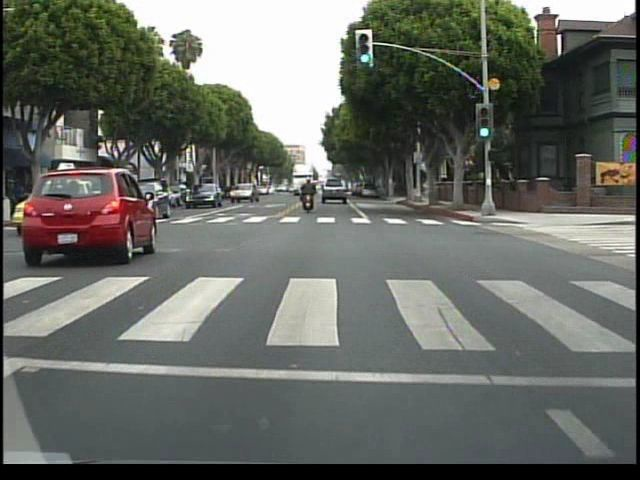person: (300, 176, 321, 219)
